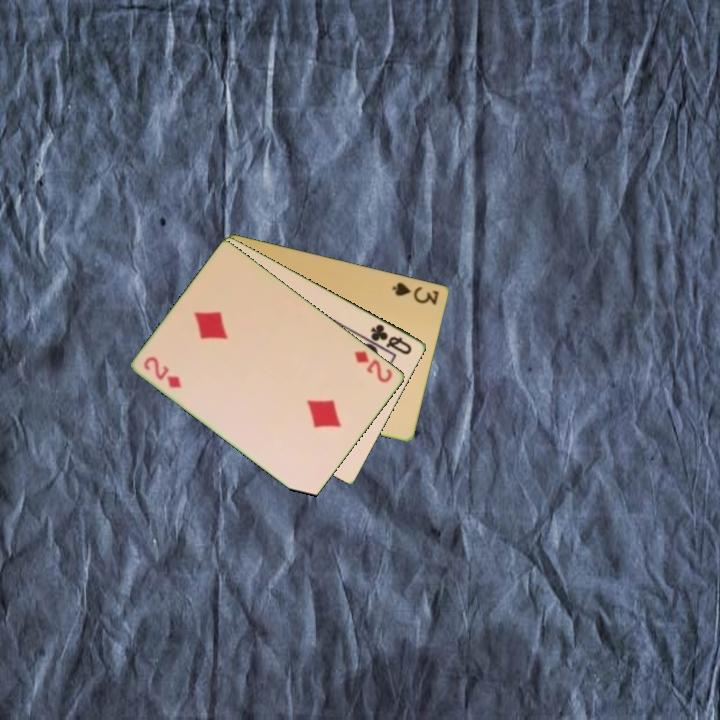2d: (351, 347, 396, 386), (140, 353, 185, 391)
3s: (389, 278, 442, 307)
Qc: (367, 320, 415, 357)
